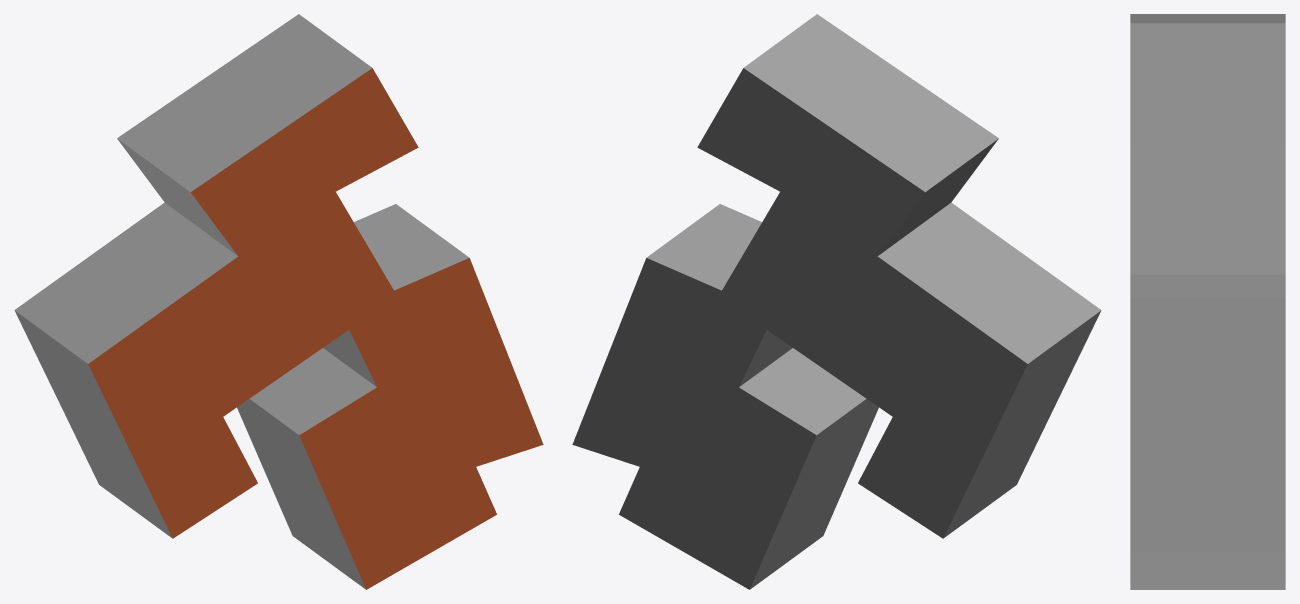
Rendered from construction_1378_assumed_A_Casa_h6m.obj.
3 renders of one model, left to right at view 1: azimuth 30°, elevation 25°; view 2: azimuth 150°, elevation 25°; view 3: azimuth 270°, elevation 25°, orthographic. The views are drawn at different scales.
Parts seen in each view (by area): view 1: construction_1378_assumed_A_Casa; view 2: construction_1378_assumed_A_Casa; view 3: construction_1378_assumed_A_Casa.
Boxes of the visible parts, <box> form: construction_1378_assumed_A_Casa: <box>14,14,543,589</box>; construction_1378_assumed_A_Casa: <box>572,14,1101,589</box>; construction_1378_assumed_A_Casa: <box>1130,14,1285,589</box>.
Size of the model in its own units: 21.41 by 23.38 by 6.
